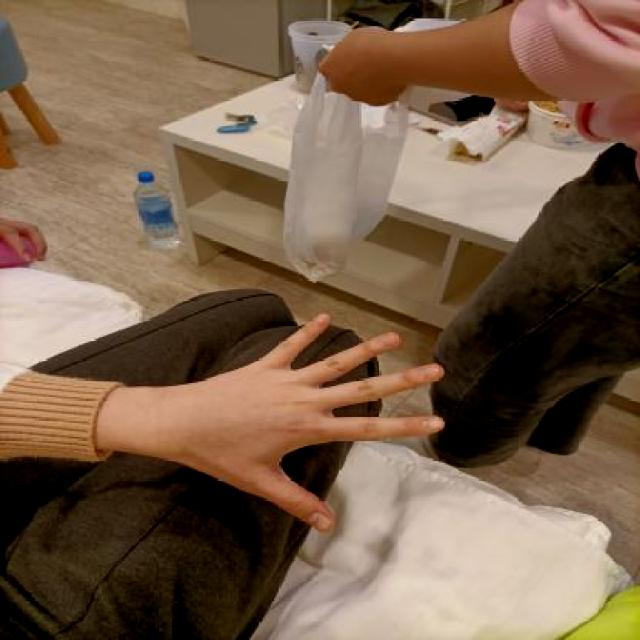no_glove: (117, 300, 471, 546)
